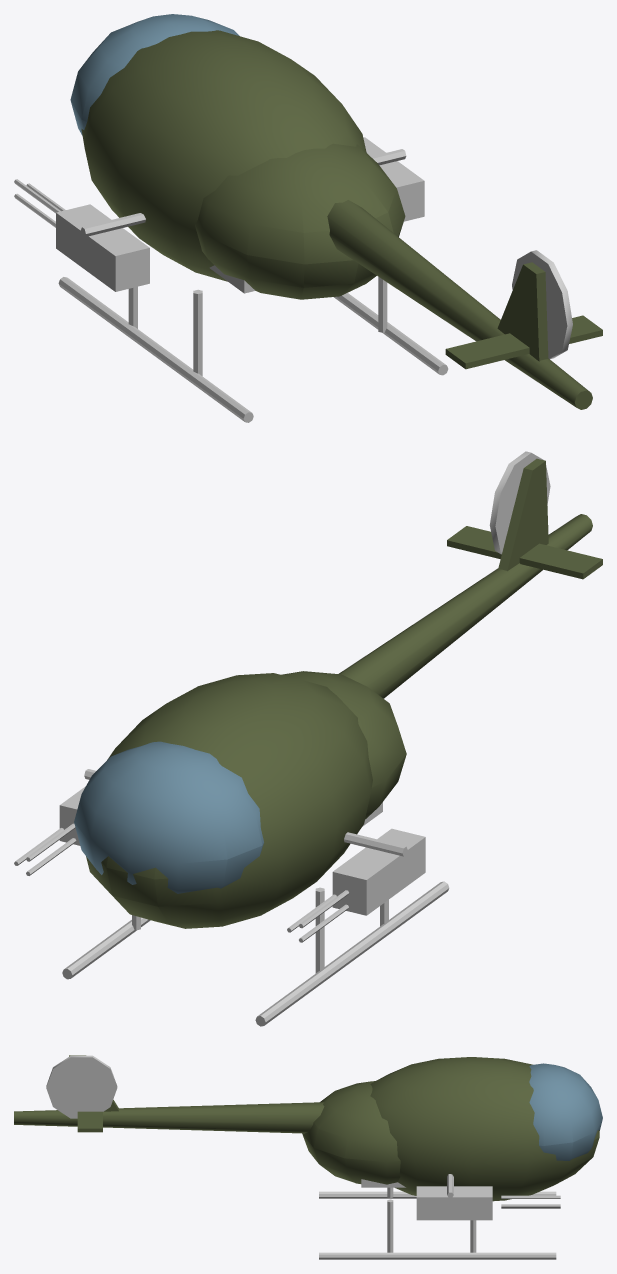
The picture shows the model from 3 angles, top to bottom: view 1: azimuth 30°, elevation 25°; view 2: azimuth 150°, elevation 25°; view 3: azimuth 270°, elevation 25°; orthographic projection. The views are drawn at different scales.
Visible parts, largest first — view 1: model; view 2: model; view 3: model.
Part boxes in pixels (box(x1,y1,x2,y2)): model: box(14, 14, 602, 422); model: box(14, 451, 602, 1026); model: box(14, 1055, 602, 1259).
Size of the model in its own units: 2.8 by 2.29 by 6.95.
